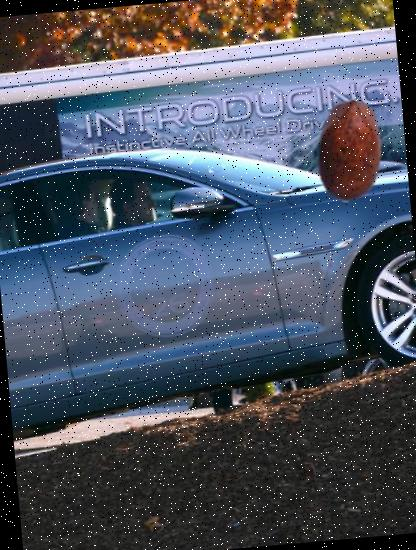Nut: (294, 94, 407, 208)
